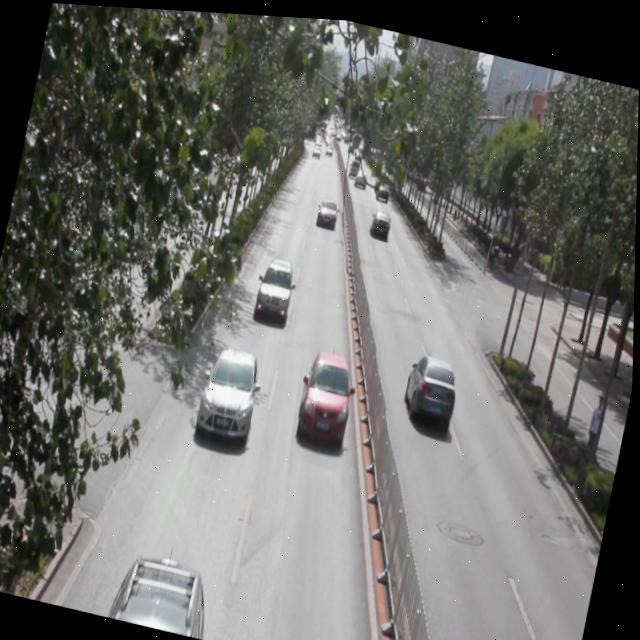car: (110, 549, 215, 636), (196, 339, 265, 440), (293, 344, 360, 443), (400, 344, 463, 426), (253, 252, 297, 322), (314, 195, 339, 225), (369, 204, 392, 236), (374, 175, 391, 199), (352, 166, 368, 186)
truck: (346, 154, 362, 175)
